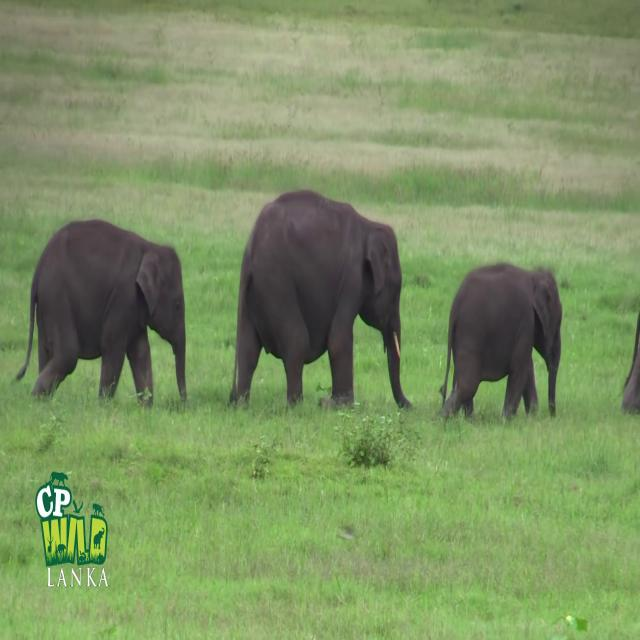Elephant: (228, 188, 413, 412), (16, 217, 188, 409), (437, 260, 562, 423), (620, 310, 640, 415)
